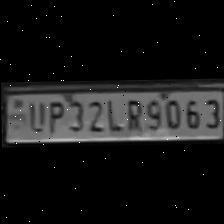0: (160, 94, 182, 128)
2: (83, 96, 103, 132)
3: (199, 94, 221, 129), (64, 96, 82, 131)
6: (181, 96, 201, 128)
9: (142, 95, 162, 130)
L: (102, 94, 120, 130)
P: (42, 96, 64, 132)
R: (122, 95, 144, 130)
U: (22, 97, 44, 132)
